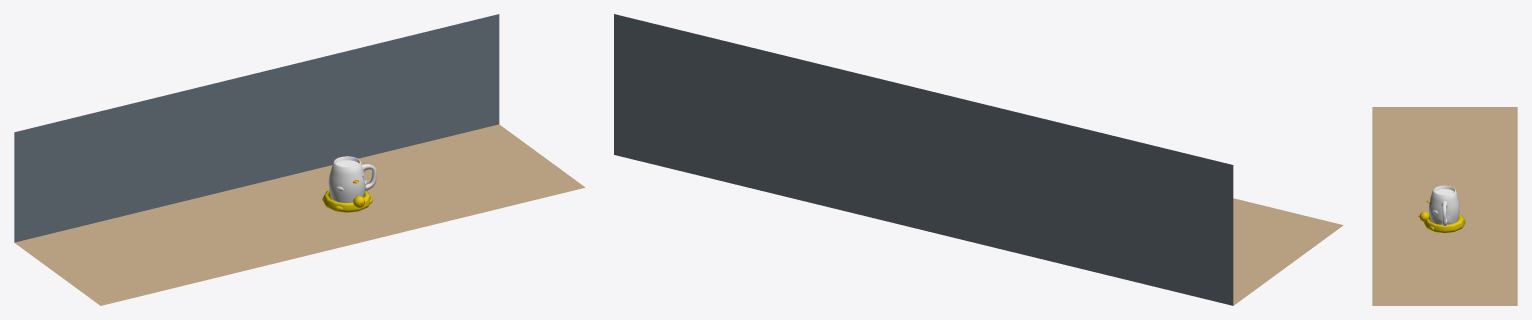
Rendered from taza pato.glb.
3 views of the same model, side by side, from view 1: azimuth 30°, elevation 25°; view 2: azimuth 150°, elevation 25°; view 3: azimuth 270°, elevation 25° (orthographic). The views are drawn at different scales.
Parts seen in each view (by area): view 1: escena fondo, cuerpo taza, flotador pato; view 2: escena fondo; view 3: escena fondo, cuerpo taza, flotador pato.
Part boxes in pixels (x1=…): escena fondo: x1=14, y1=14, x2=585, y2=305; cuerpo taza: x1=328, y1=156, x2=376, y2=202; flotador pato: x1=322, y1=190, x2=372, y2=212; escena fondo: x1=614, y1=14, x2=1343, y2=305; escena fondo: x1=1372, y1=107, x2=1517, y2=305; cuerpo taza: x1=1426, y1=185, x2=1459, y2=225; flotador pato: x1=1418, y1=211, x2=1465, y2=233.
Size of the model in its own units: 28.41 by 6.18 by 8.77.
